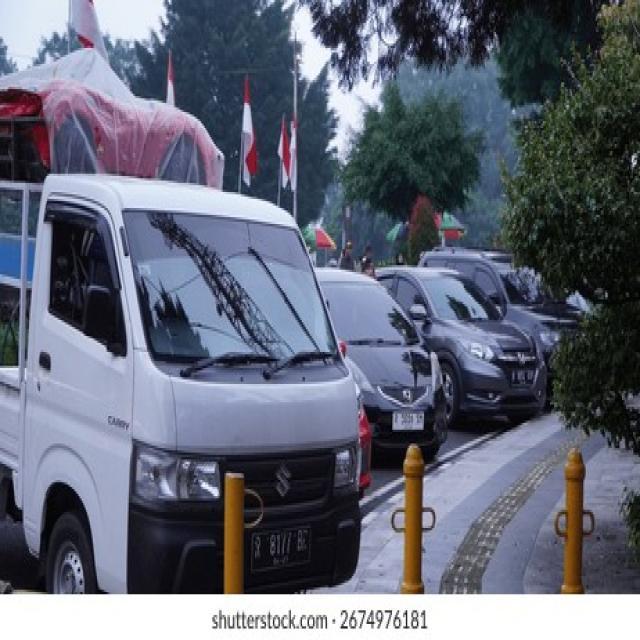seat: (276, 462, 292, 502)
